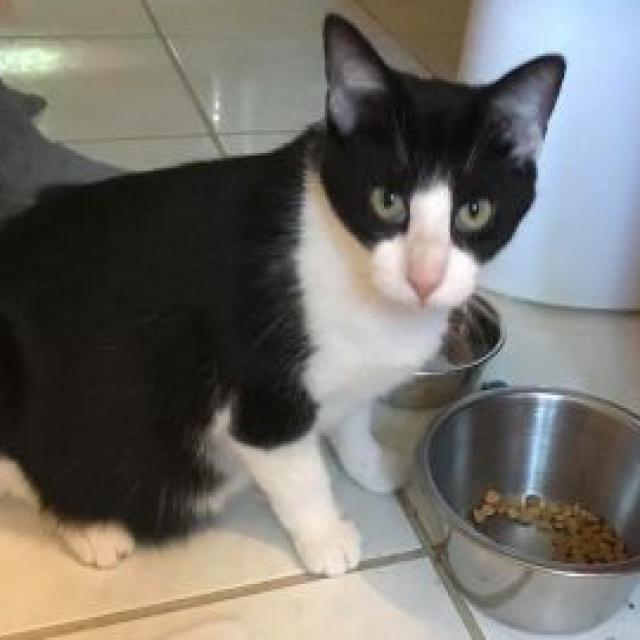Tuxedo: (0, 0, 573, 581)
